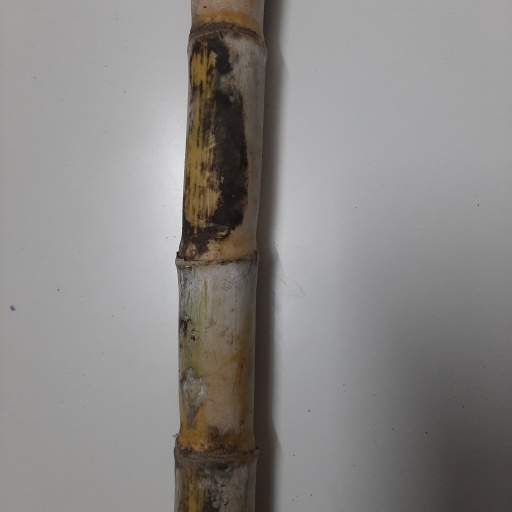Bud: (184, 239, 200, 259)
